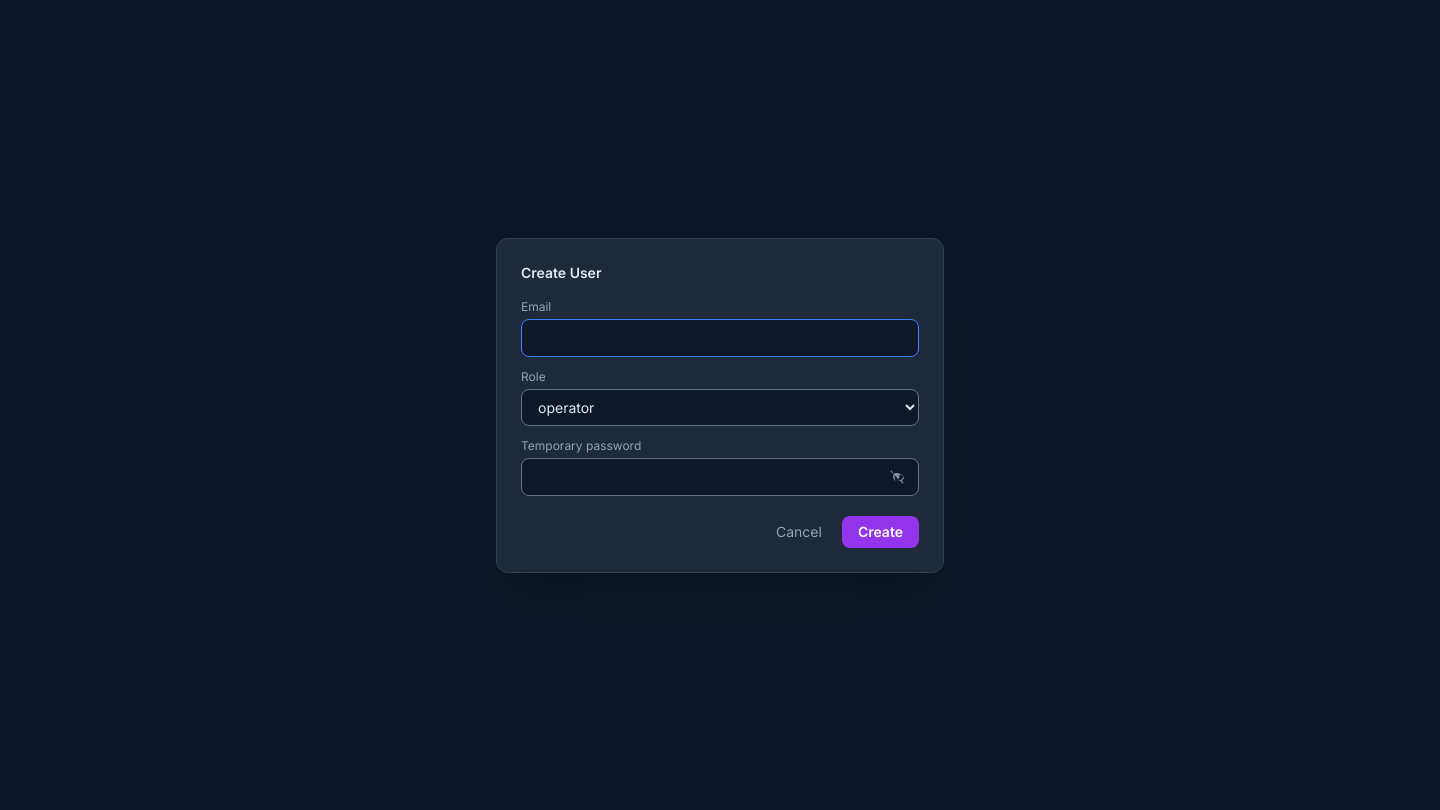
Test: CrearUsuarioModal › en en, mientras guarda el botón dice "Create" -> "Creating…"
The image size is (1440, 810).
Type "n@x.io" into the field labelled "Email". click: coordinates (720, 338)
box: left=521, top=318, right=919, bottom=356
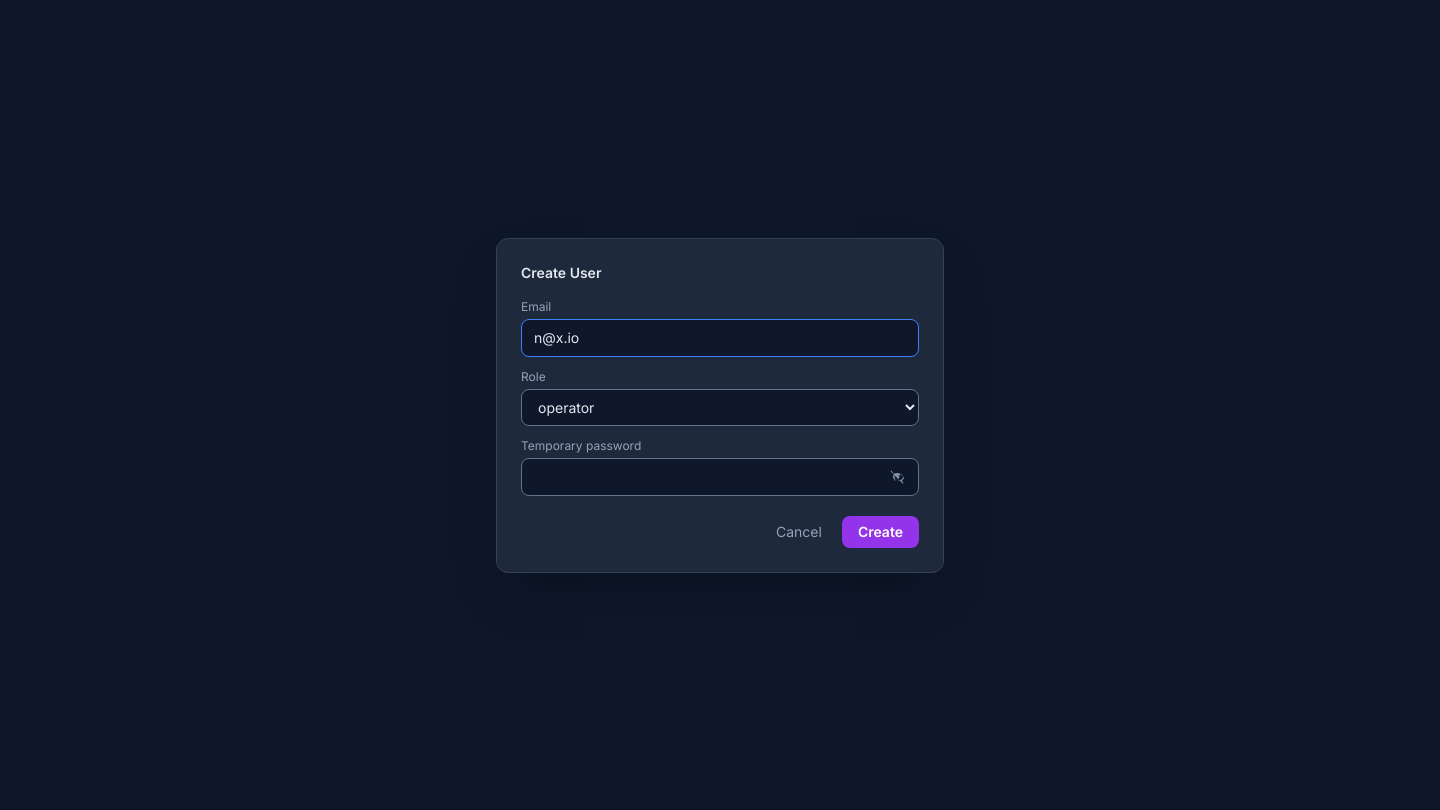
Type "clave-larga-9" into the password field labelled "Temporary password". click: coordinates (720, 476)
box: left=521, top=458, right=919, bottom=496
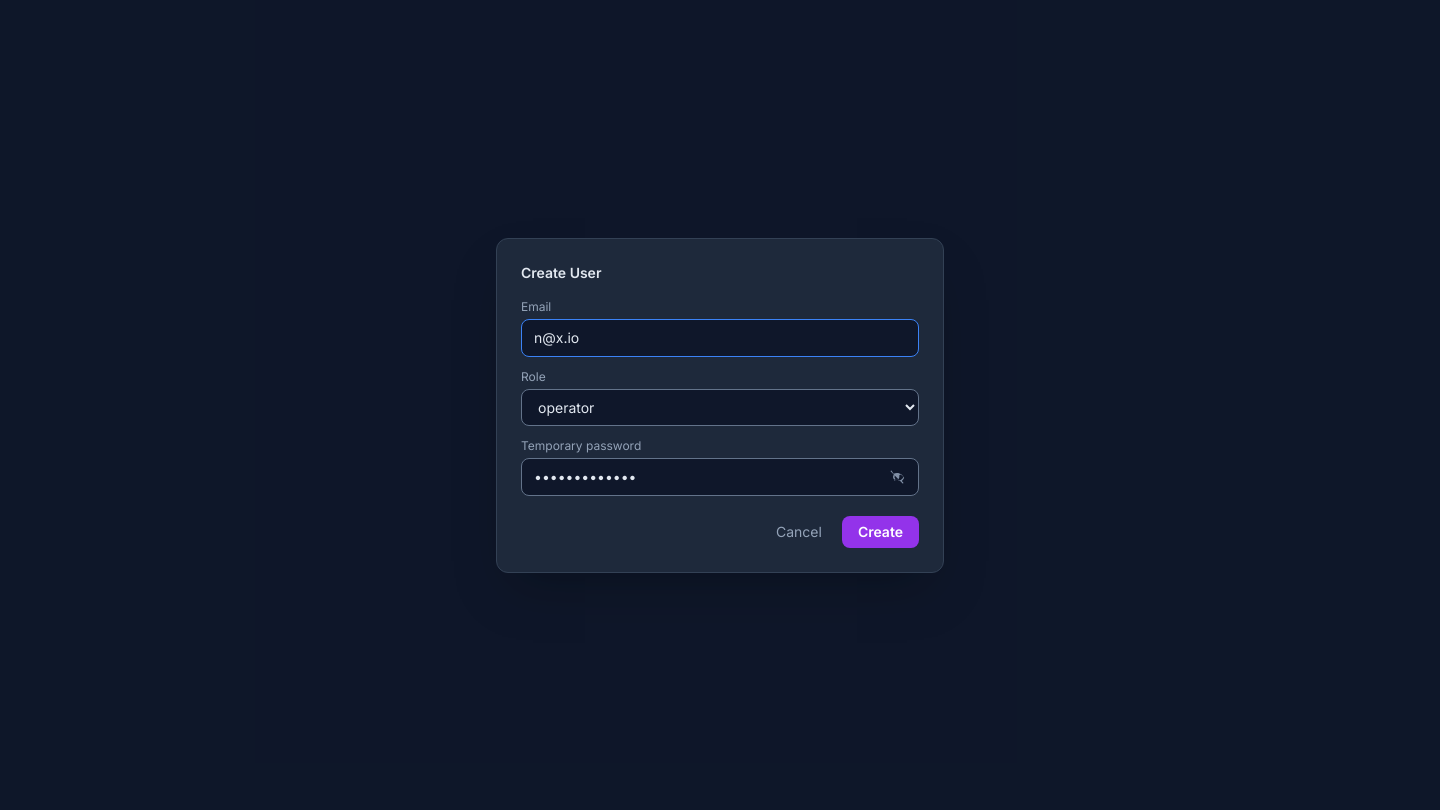
Click the button "Create". click: coordinates (880, 532)
box: left=842, top=516, right=919, bottom=548
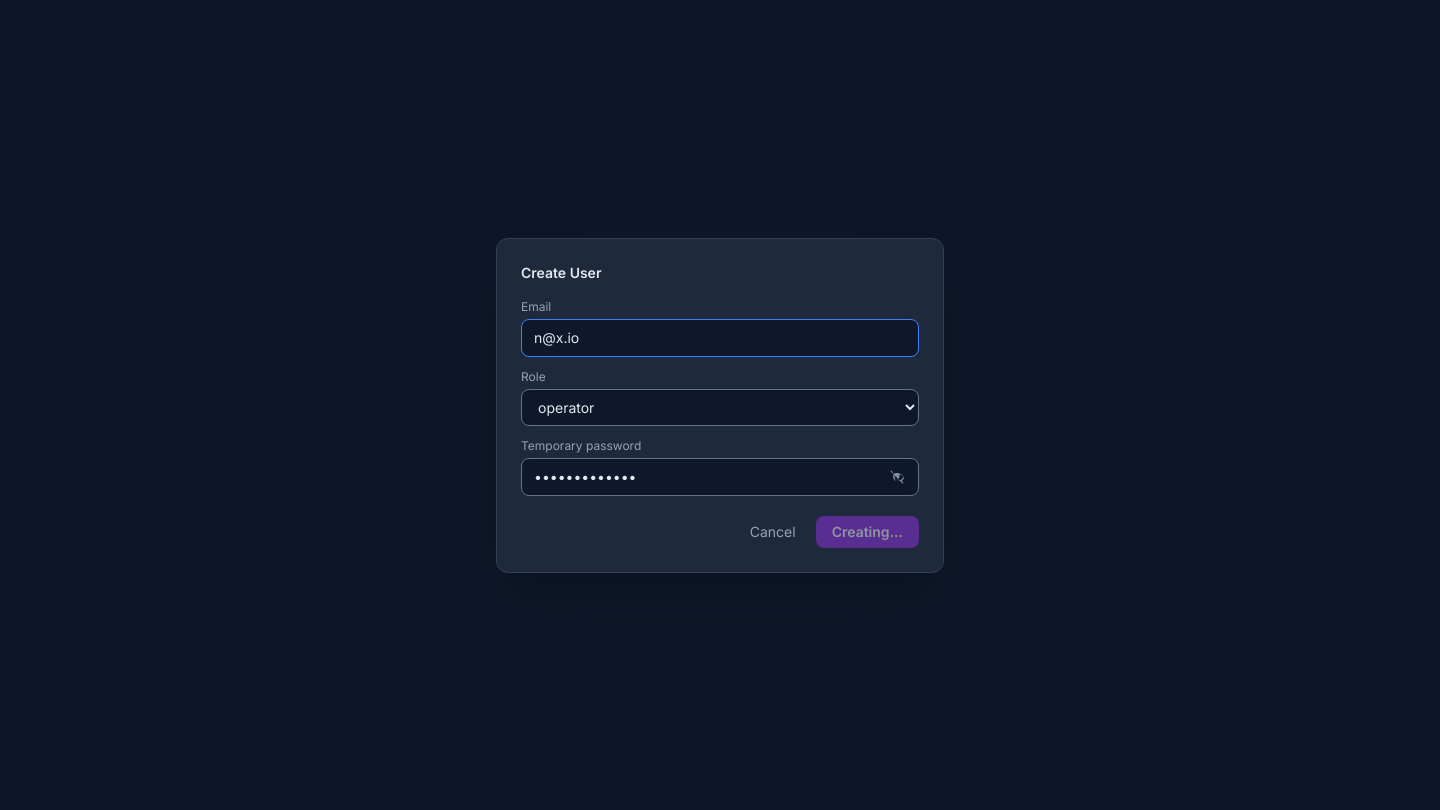
Expected: the button "Creating…" is disabled, left=816, top=516, right=919, bottom=548
